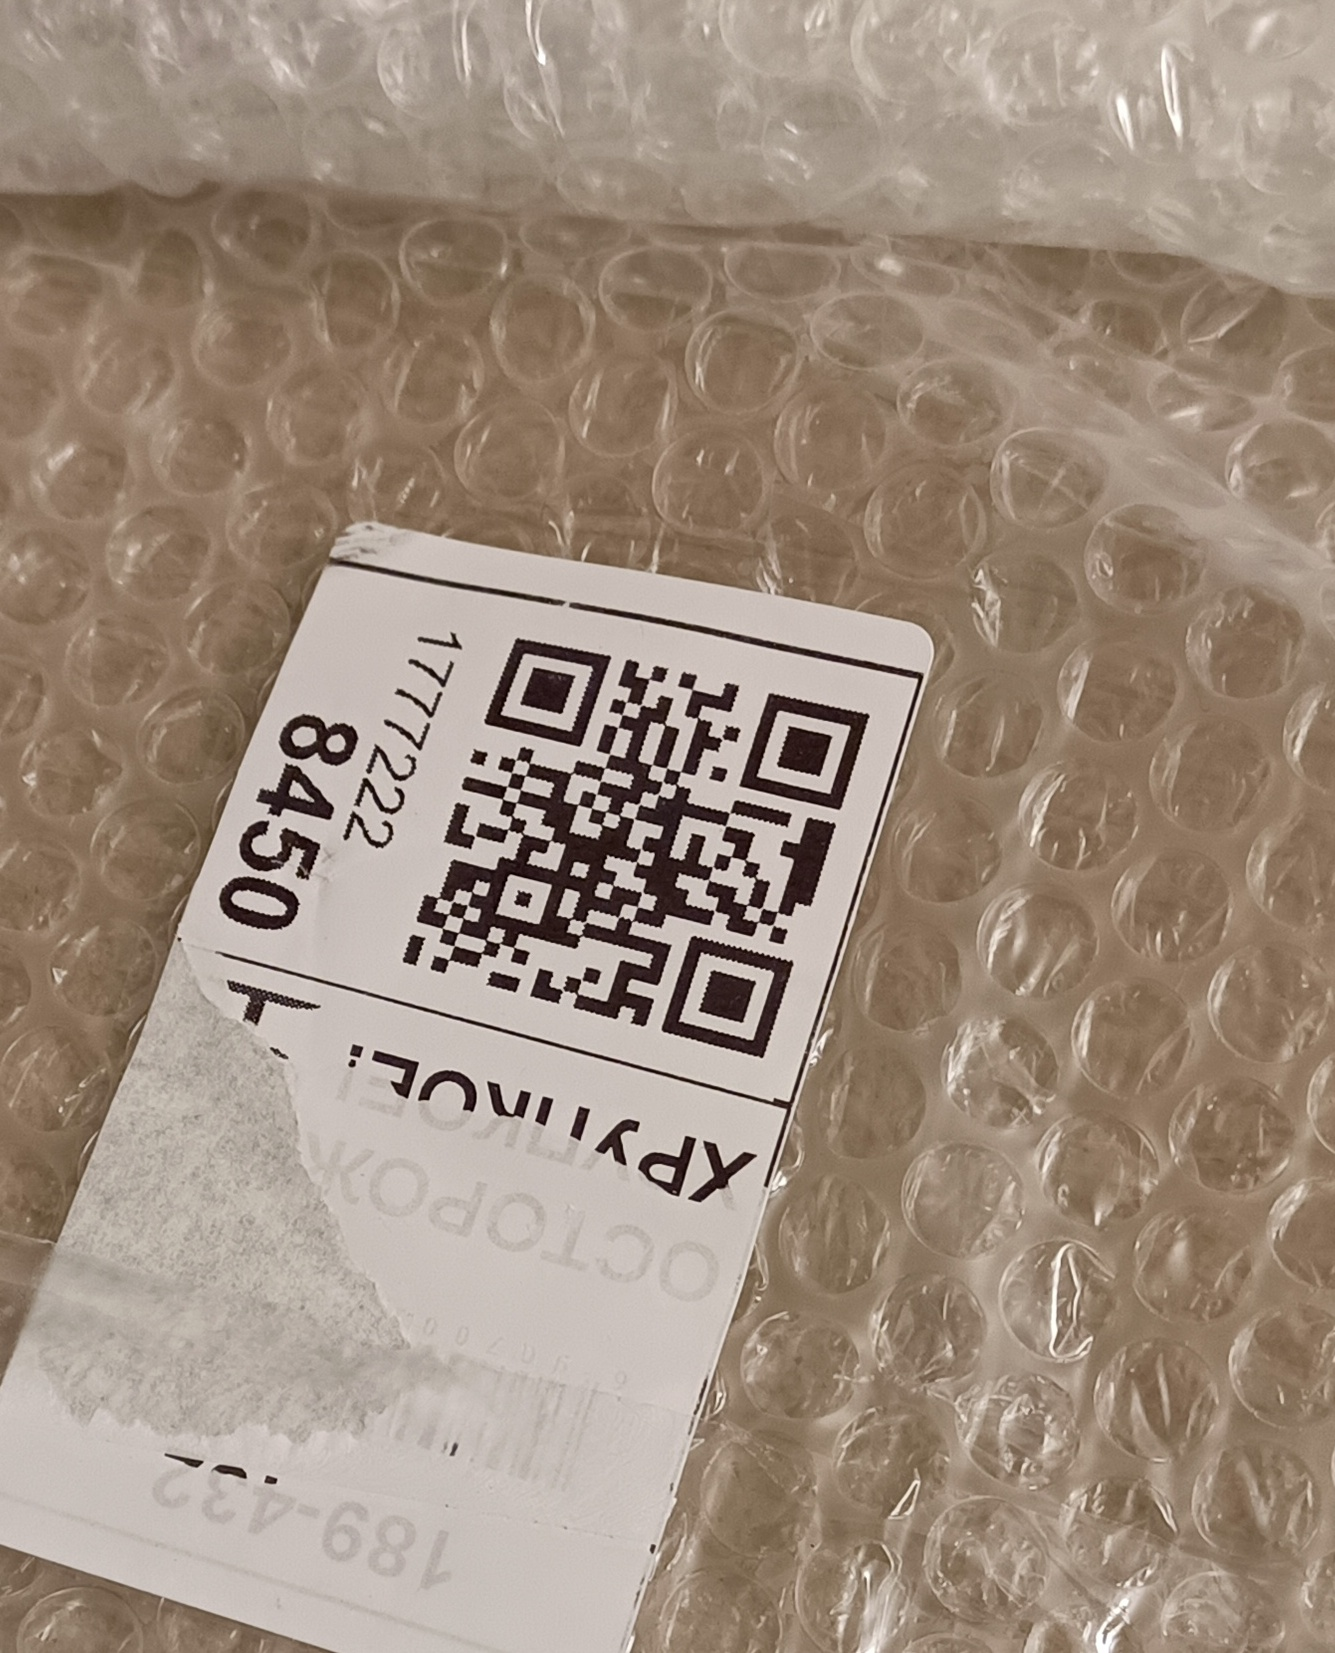2d: (396, 633, 877, 1059)
